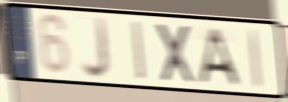6: (35, 11, 74, 79)
A: (196, 25, 242, 89)
I: (130, 18, 149, 84), (247, 27, 264, 92)
J: (80, 13, 112, 83)
X: (153, 20, 199, 87)
